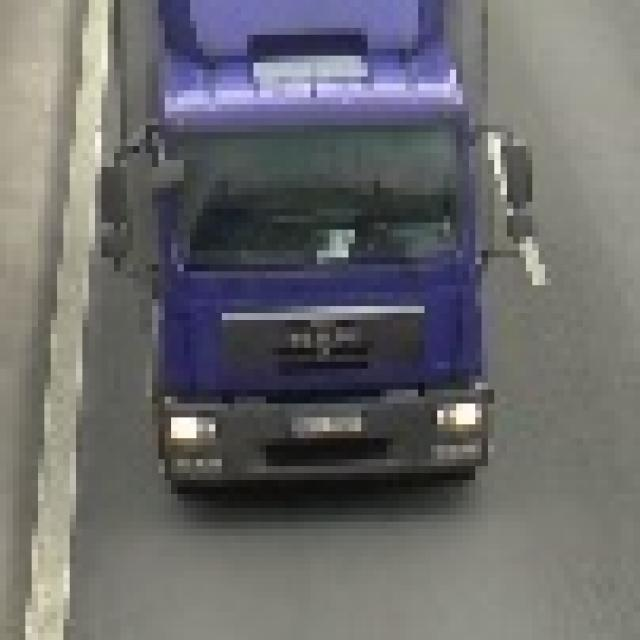truck: (101, 0, 538, 501)
